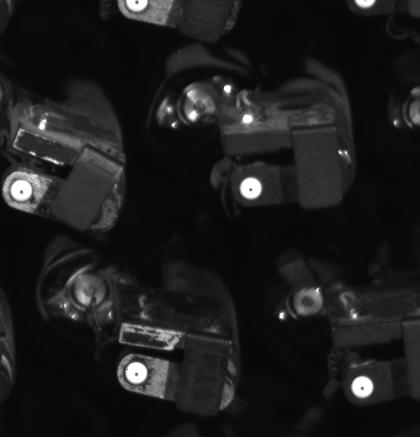fiber: (7, 175, 39, 210), (345, 372, 382, 402), (121, 357, 155, 389), (234, 173, 270, 203), (121, 1, 155, 19)
